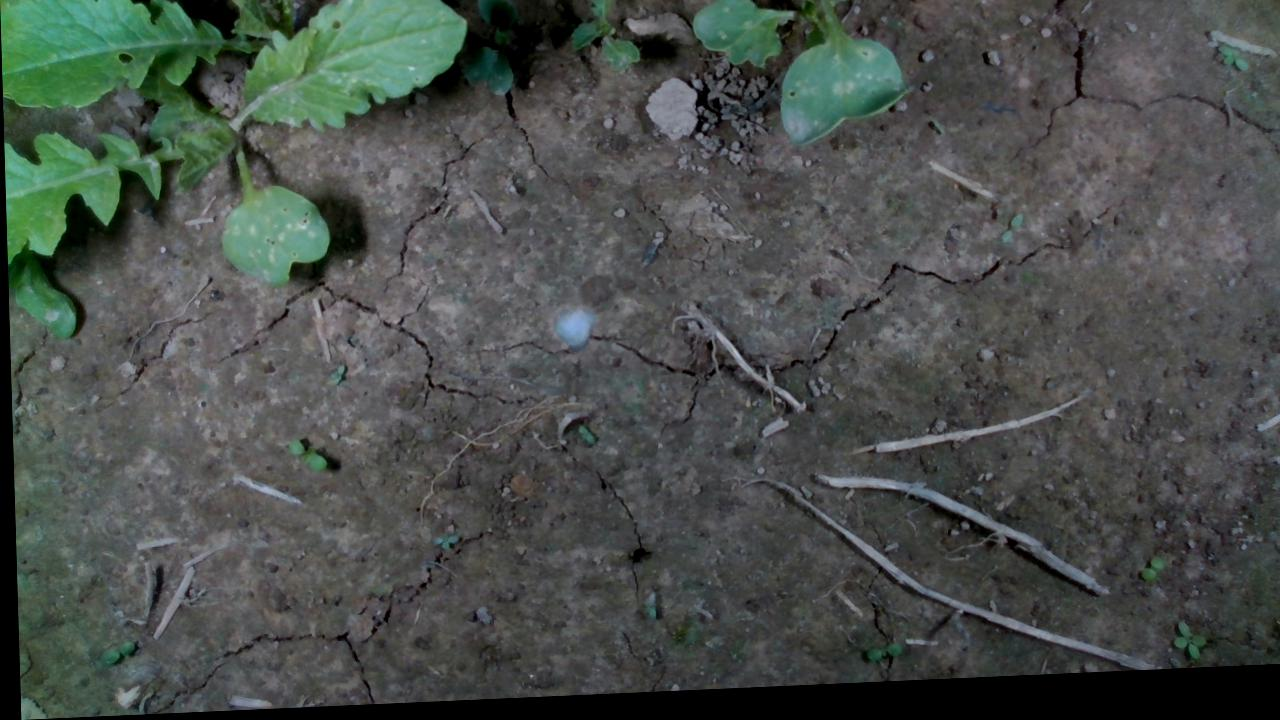weed: (280, 438, 326, 478), (1164, 629, 1203, 672), (858, 647, 896, 671), (1134, 562, 1161, 592)
